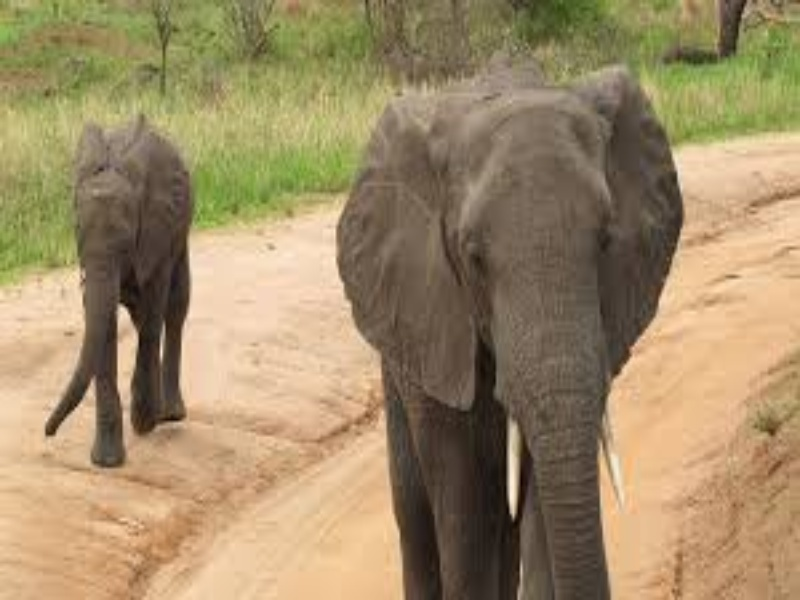elephant: (334, 69, 703, 599), (51, 124, 209, 491)
